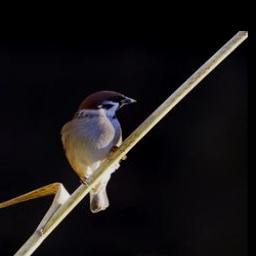Sparrow: (58, 89, 138, 213)
